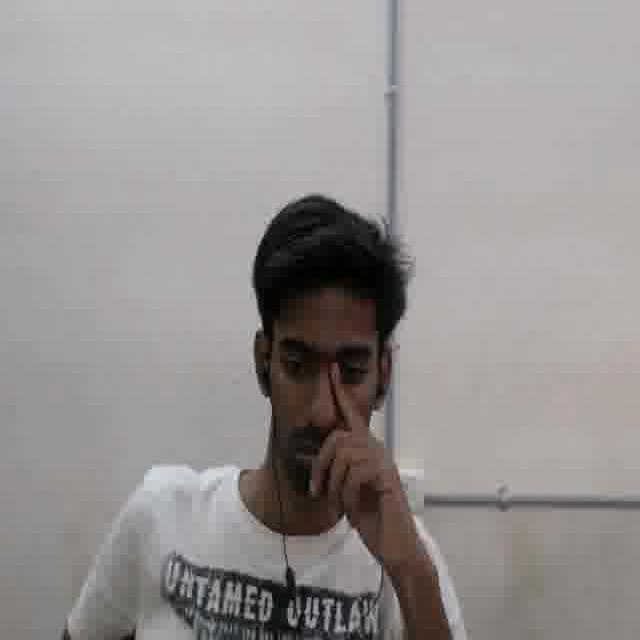Confusion: (262, 286, 379, 494)
